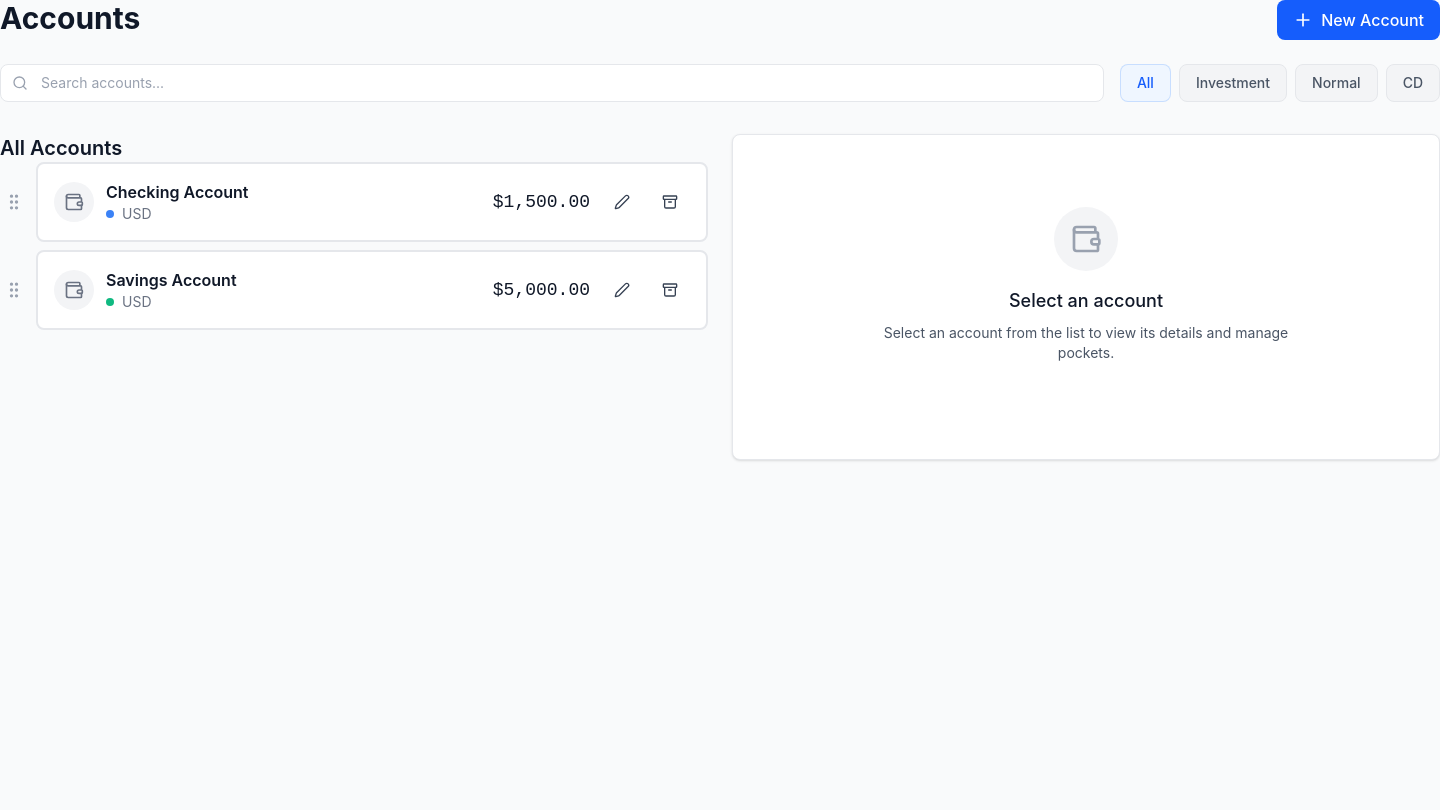
Test: AccountsPage › opens the edit modal pre-populated with the account when Edit is clicked
Click the button named "edit" in the row of "Checking Account" at (622, 202), box [602,188,642,216]
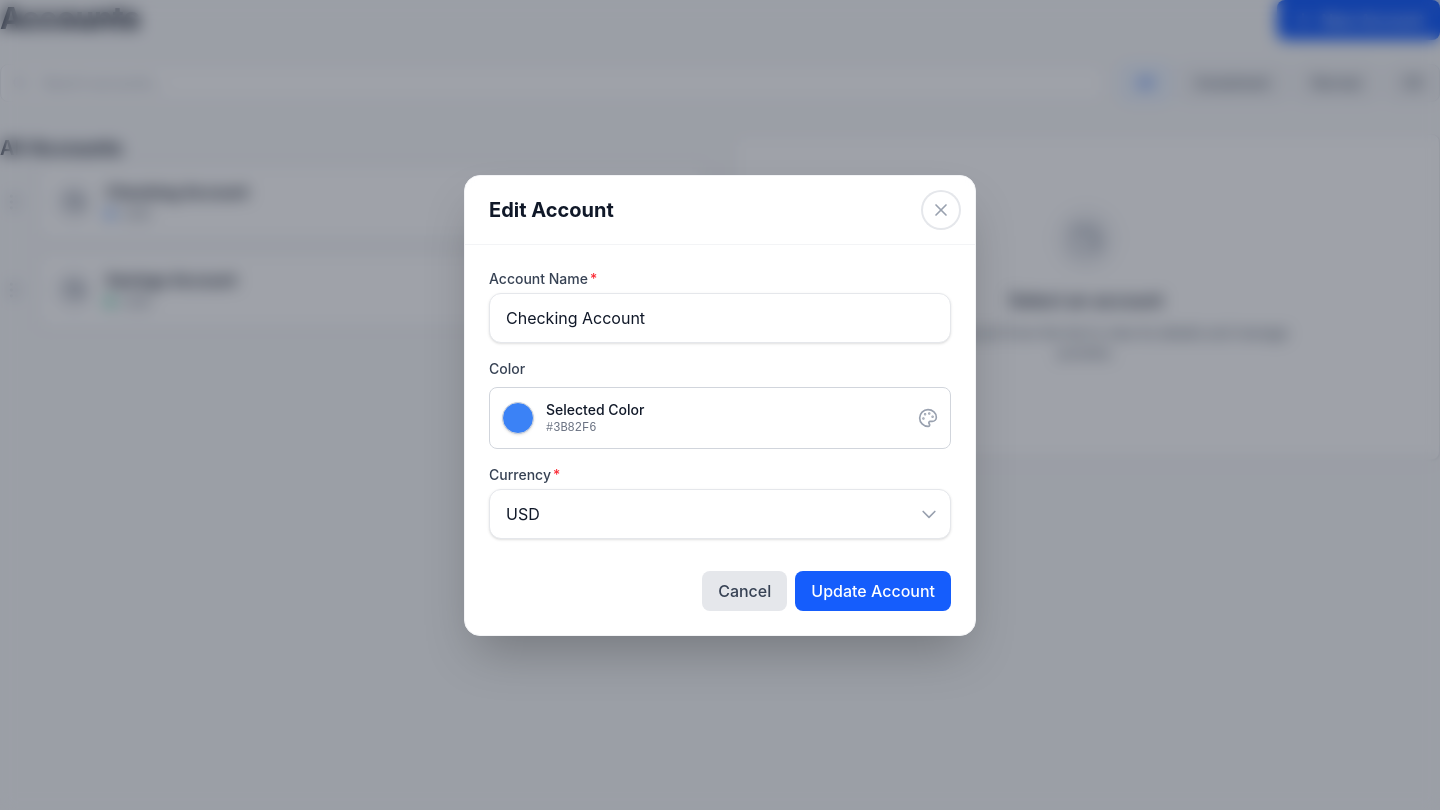
Expected: the heading "Edit Account" is shown, [489,196,614,224]
Expected: the field labelled "Account Name*" holds "Checking Account", [489,292,951,342]
